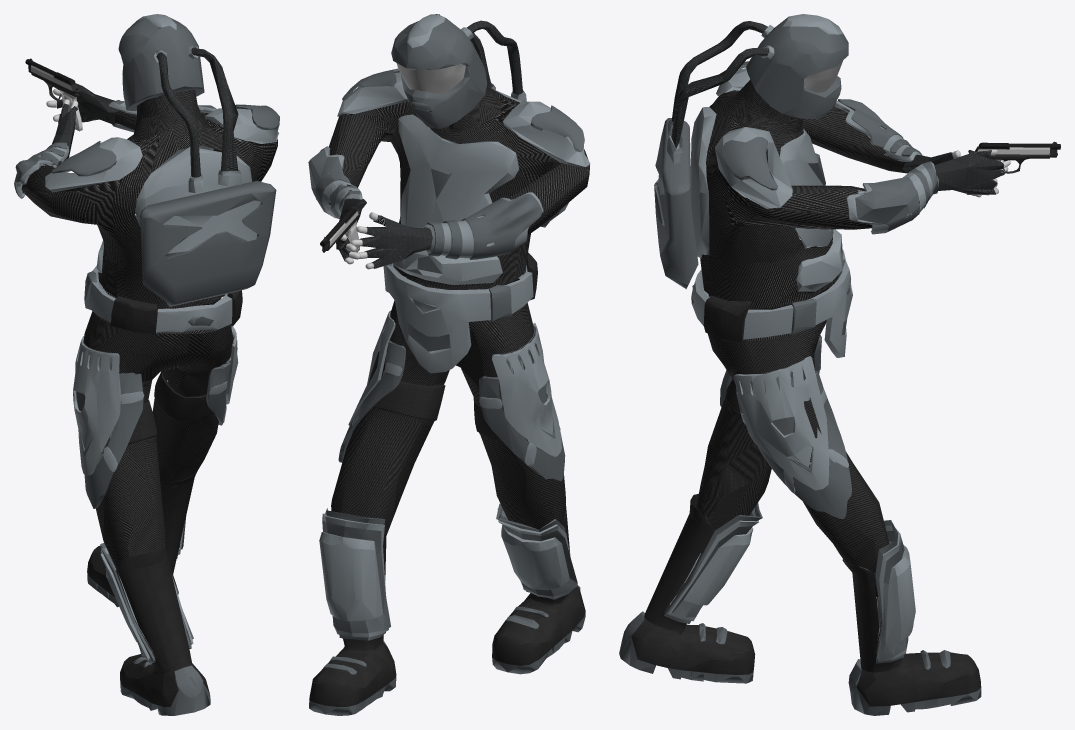
3 views of the same model, side by side, from view 1: azimuth 30°, elevation 25°; view 2: azimuth 150°, elevation 25°; view 3: azimuth 270°, elevation 25° (orthographic). The views are drawn at different scales.
Visible parts, largest first — view 1: personajeskefix:personaje:extrudedSurface2 polySurface38, personajeskefix:personaje:PANTALON polySurface38, personajeskefix:personaje:CAMISETABUENA polySurface38, personajeskefix:personaje:bota1 polySurface38, personajeskefix:personaje:pPipe4 polySurface38, personajeskefix:personaje:cosoarmdaurapierna1 polySurface38, personajeskefix:personaje:cinturon polySurface38, personajeskefix:personaje:pCube4 polySurface38, personajeskefix:personaje:polySurface6 polySurface38, personajeskefix:personaje:polySurface11 polySurface38, personajeskefix:personaje:HOMBRO2 polySurface38, pistola:Cylinder001 polySurface38 (+5 smaller); view 2: personajeskefix:personaje:pPipe4 polySurface38, personajeskefix:personaje:PANTALON polySurface38, personajeskefix:personaje:CAMISETABUENA polySurface38, personajeskefix:personaje:bota1 polySurface38, personajeskefix:personaje:armadbota1 polySurface38, personajeskefix:personaje:cinturon polySurface38, personajeskefix:personaje:pCube4 polySurface38, personajeskefix:personaje:extrudedSurface2 polySurface38, personajeskefix:personaje:cosoarmdaurapierna1 polySurface38, personajeskefix:personaje:polySurface2 polySurface38, personajeskefix:personaje:polySurface6 polySurface38, personajeskefix:personaje:cosoarmadurapierna2 polySurface38 (+8 smaller); view 3: personajeskefix:personaje:CAMISETABUENA polySurface38, personajeskefix:personaje:bota1 polySurface38, personajeskefix:personaje:pPipe4 polySurface38, personajeskefix:personaje:extrudedSurface2 polySurface38, personajeskefix:personaje:PANTALON polySurface38, personajeskefix:personaje:pCube4 polySurface38, personajeskefix:personaje:cinturon polySurface38, personajeskefix:personaje:armadbota1 polySurface38, personajeskefix:personaje:cosoarmadurapierna2 polySurface38, personajeskefix:personaje:hombro1 polySurface38, pistola:Cylinder001 polySurface38, personajeskefix:personaje:polySurface2 polySurface38 (+3 smaller).
Part boxes in pixels (x1=…): personajeskefix:personaje:extrudedSurface2 polySurface38: x1=118, y1=14, x2=276, y2=306; personajeskefix:personaje:PANTALON polySurface38: x1=83, y1=287, x2=233, y2=578; personajeskefix:personaje:CAMISETABUENA polySurface38: x1=21, y1=90, x2=277, y2=334; personajeskefix:personaje:bota1 polySurface38: x1=87, y1=471, x2=210, y2=715; personajeskefix:personaje:pPipe4 polySurface38: x1=40, y1=83, x2=278, y2=271; personajeskefix:personaje:cosoarmdaurapierna1 polySurface38: x1=73, y1=336, x2=144, y2=475; personajeskefix:personaje:cinturon polySurface38: x1=84, y1=265, x2=242, y2=334; personajeskefix:personaje:pCube4 polySurface38: x1=76, y1=326, x2=238, y2=662; personajeskefix:personaje:polySurface6 polySurface38: x1=128, y1=371, x2=214, y2=444; personajeskefix:personaje:polySurface11 polySurface38: x1=156, y1=52, x2=200, y2=177; personajeskefix:personaje:HOMBRO2 polySurface38: x1=51, y1=141, x2=116, y2=176; pistola:Cylinder001 polySurface38: x1=25, y1=58, x2=82, y2=131; personajeskefix:personaje:pPipe4 polySurface38: x1=308, y1=72, x2=590, y2=284; personajeskefix:personaje:PANTALON polySurface38: x1=331, y1=274, x2=565, y2=535; personajeskefix:personaje:CAMISETABUENA polySurface38: x1=329, y1=69, x2=589, y2=314; personajeskefix:personaje:bota1 polySurface38: x1=309, y1=505, x2=585, y2=715; personajeskefix:personaje:armadbota1 polySurface38: x1=319, y1=508, x2=572, y2=637; personajeskefix:personaje:cinturon polySurface38: x1=383, y1=252, x2=537, y2=373; personajeskefix:personaje:pCube4 polySurface38: x1=322, y1=310, x2=577, y2=640; personajeskefix:personaje:extrudedSurface2 polySurface38: x1=391, y1=14, x2=568, y2=227; personajeskefix:personaje:cosoarmdaurapierna1 polySurface38: x1=479, y1=323, x2=561, y2=466; personajeskefix:personaje:polySurface2 polySurface38: x1=427, y1=194, x2=541, y2=259; personajeskefix:personaje:polySurface6 polySurface38: x1=374, y1=382, x2=503, y2=442; personajeskefix:personaje:cosoarmadurapierna2 polySurface38: x1=338, y1=340, x2=405, y2=462; personajeskefix:personaje:CAMISETABUENA polySurface38: x1=700, y1=79, x2=919, y2=341; personajeskefix:personaje:bota1 polySurface38: x1=619, y1=494, x2=981, y2=715; personajeskefix:personaje:pPipe4 polySurface38: x1=690, y1=68, x2=1004, y2=291; personajeskefix:personaje:extrudedSurface2 polySurface38: x1=654, y1=14, x2=848, y2=289; personajeskefix:personaje:PANTALON polySurface38: x1=696, y1=273, x2=889, y2=596; personajeskefix:personaje:pCube4 polySurface38: x1=664, y1=335, x2=908, y2=663; personajeskefix:personaje:cinturon polySurface38: x1=691, y1=247, x2=852, y2=357; personajeskefix:personaje:armadbota1 polySurface38: x1=667, y1=508, x2=915, y2=662; personajeskefix:personaje:cosoarmadurapierna2 polySurface38: x1=735, y1=370, x2=851, y2=518; personajeskefix:personaje:hombro1 polySurface38: x1=722, y1=136, x2=777, y2=190; pistola:Cylinder001 polySurface38: x1=966, y1=141, x2=1060, y2=195; personajeskefix:personaje:polySurface2 polySurface38: x1=838, y1=99, x2=922, y2=156.
Bounding box in the file's own units: 3.64 × 9.44 × 5.51.
